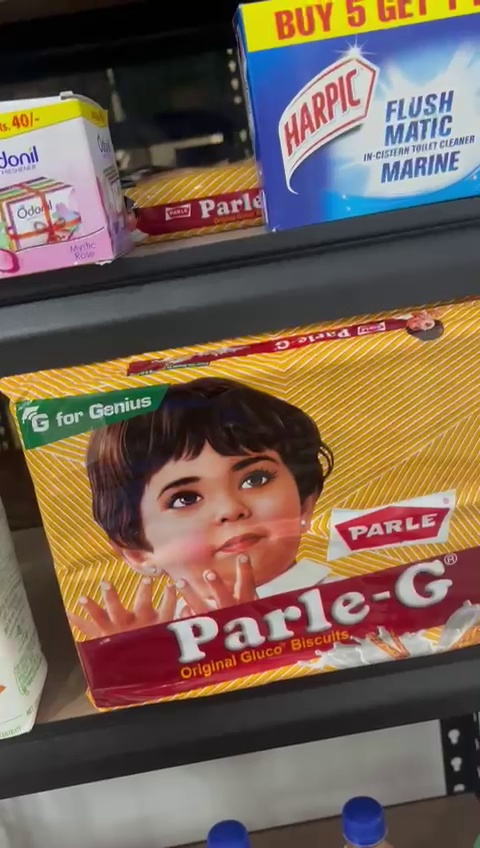Parle-G: (0, 324, 480, 710)
